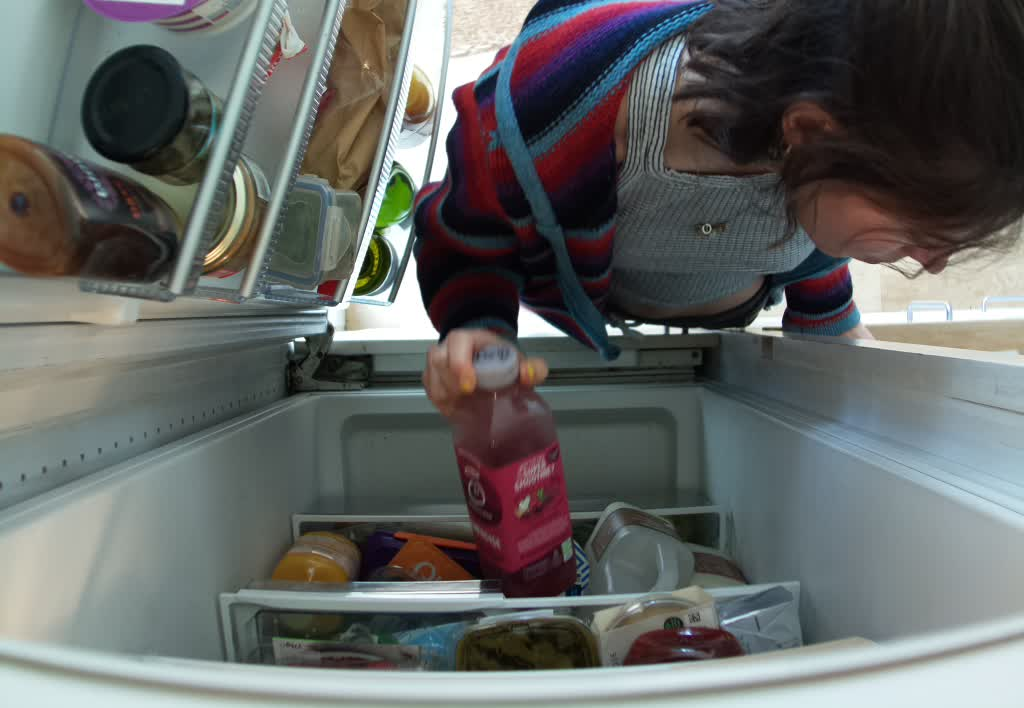juice: (447, 340, 582, 596)
